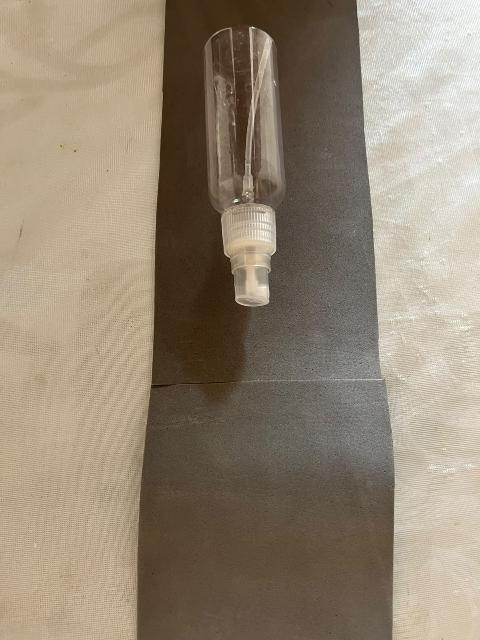PET: (179, 5, 312, 329)
